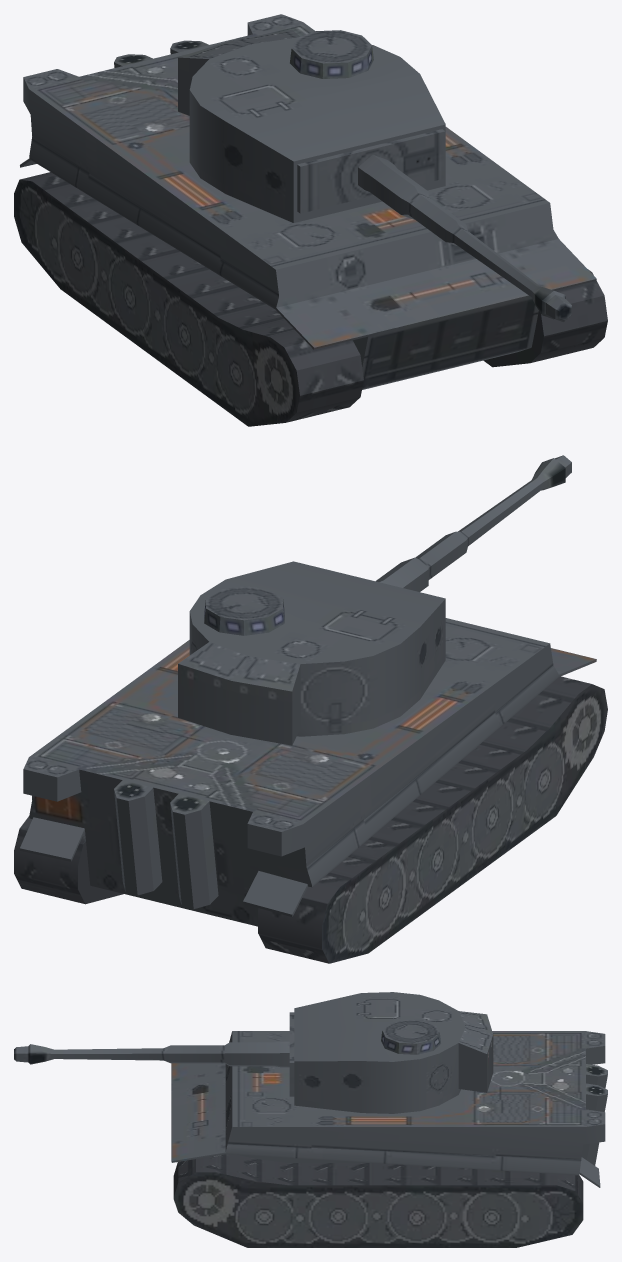
The model's file is tank-transformed.glb.
3 renders of one model, top to bottom at view 1: azimuth 30°, elevation 25°; view 2: azimuth 150°, elevation 25°; view 3: azimuth 270°, elevation 25°, orthographic. The views are drawn at different scales.
Visible parts, largest first — view 1: tank; view 2: tank; view 3: tank.
Boxes of the visible parts, <box> form: tank: <box>14,14,607,426</box>; tank: <box>14,455,607,963</box>; tank: <box>14,992,607,1247</box>.
Bounding box in the file's own units: 11.2 × 8.62 × 26.12.
Materials: 1 (1 with a texture image).
